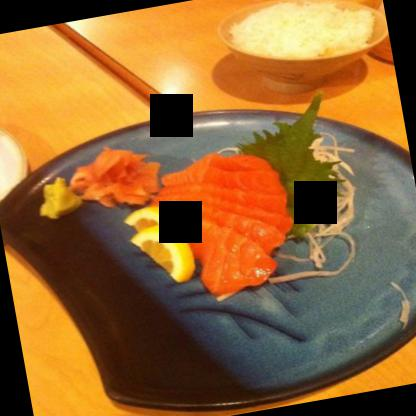salmon: (150, 143, 300, 304)
